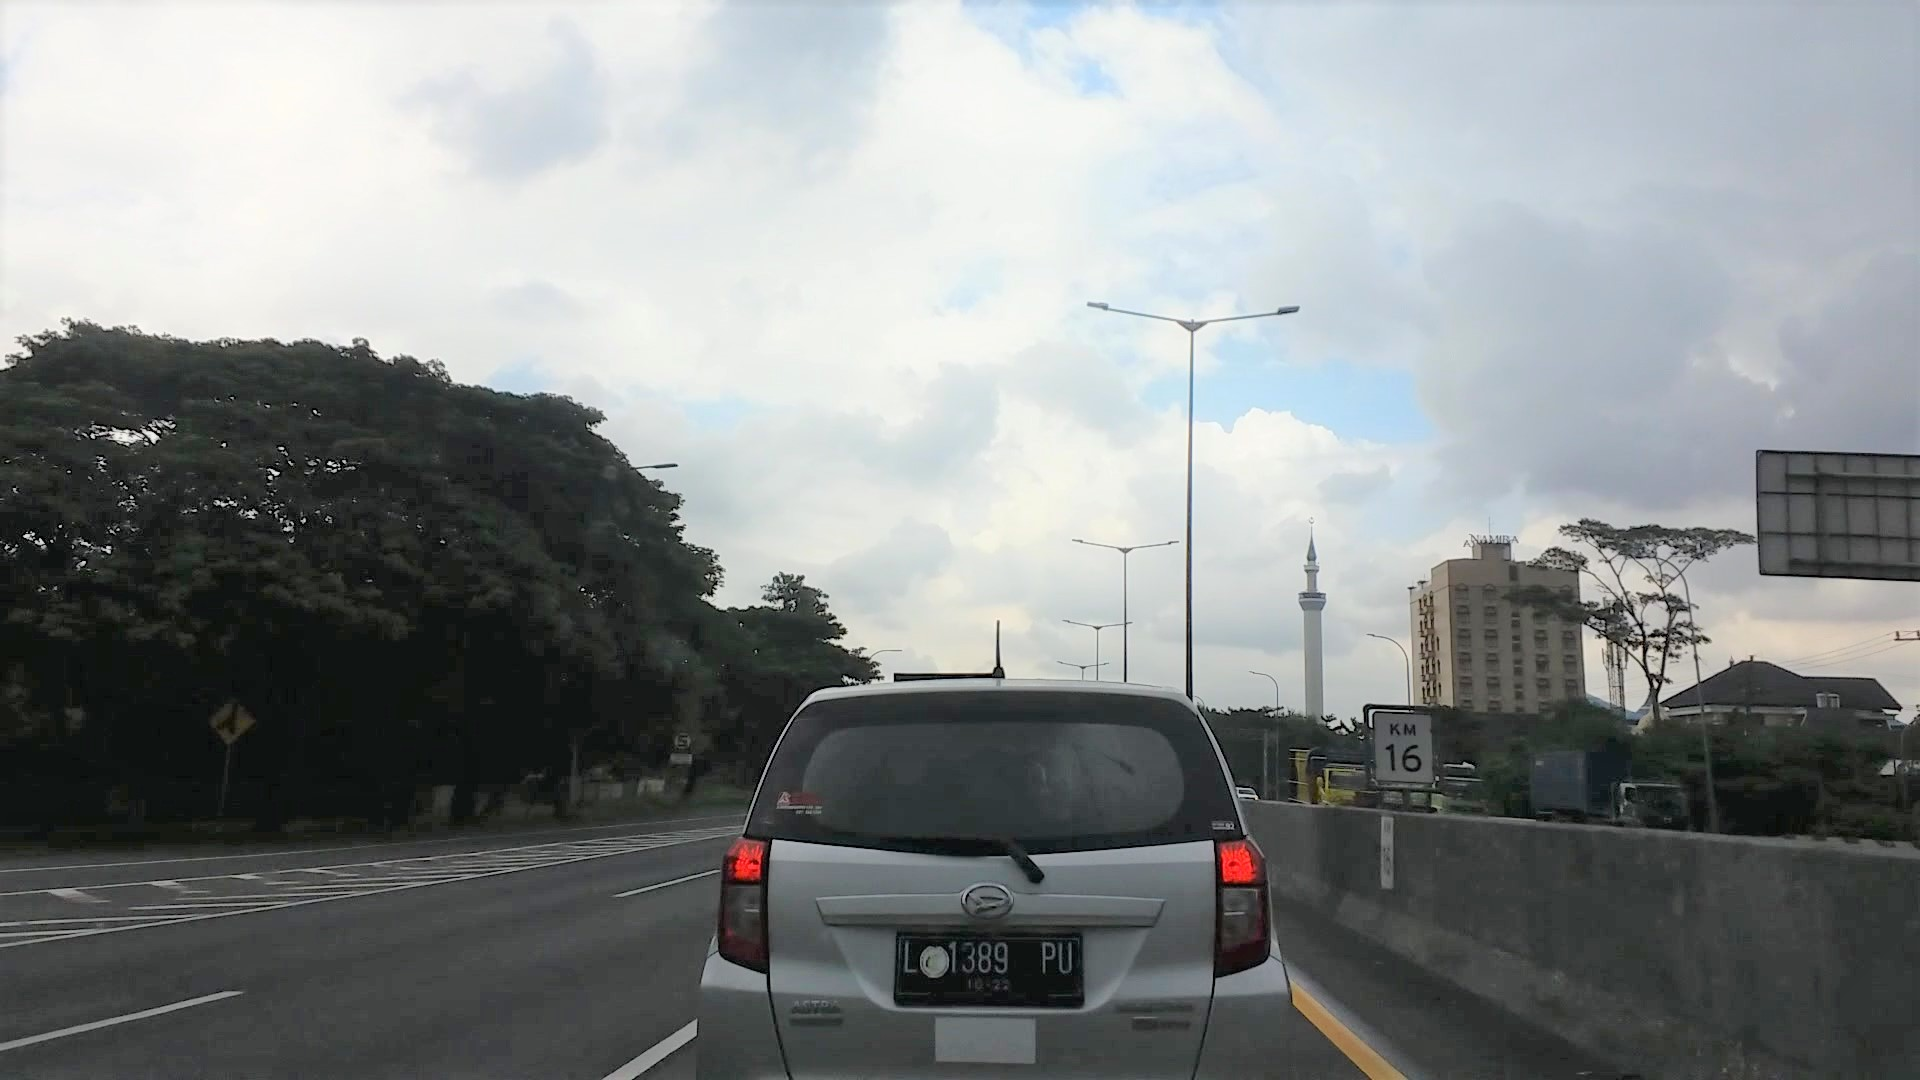plate_positive: (895, 930, 1084, 1007)
